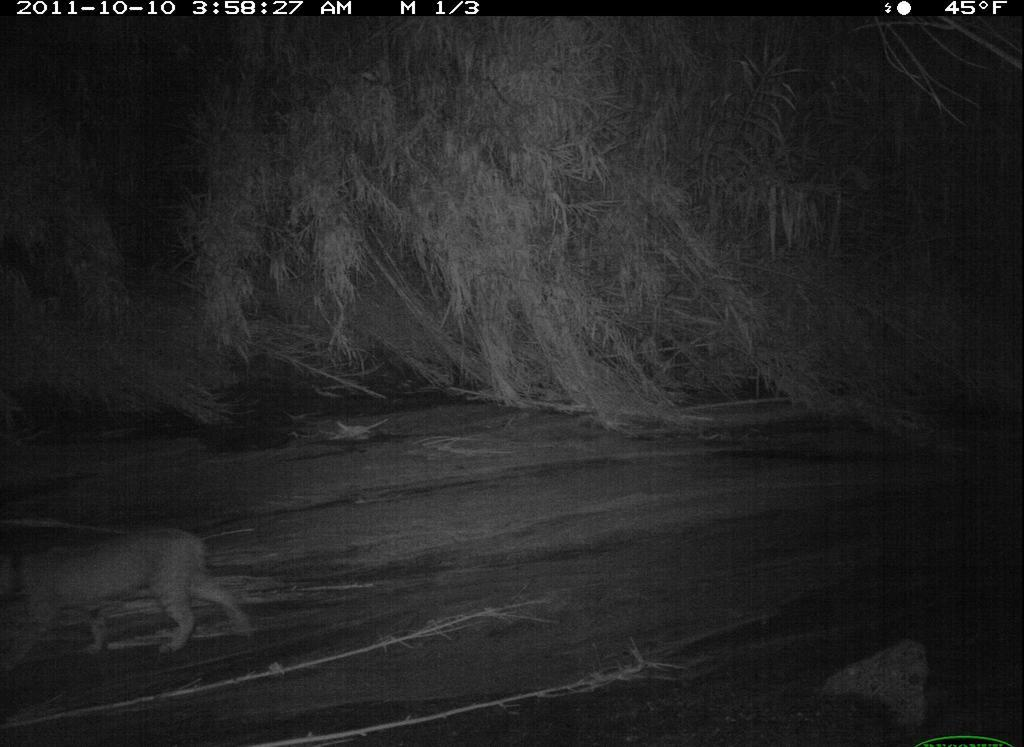bobcat: (1, 515, 262, 681)
